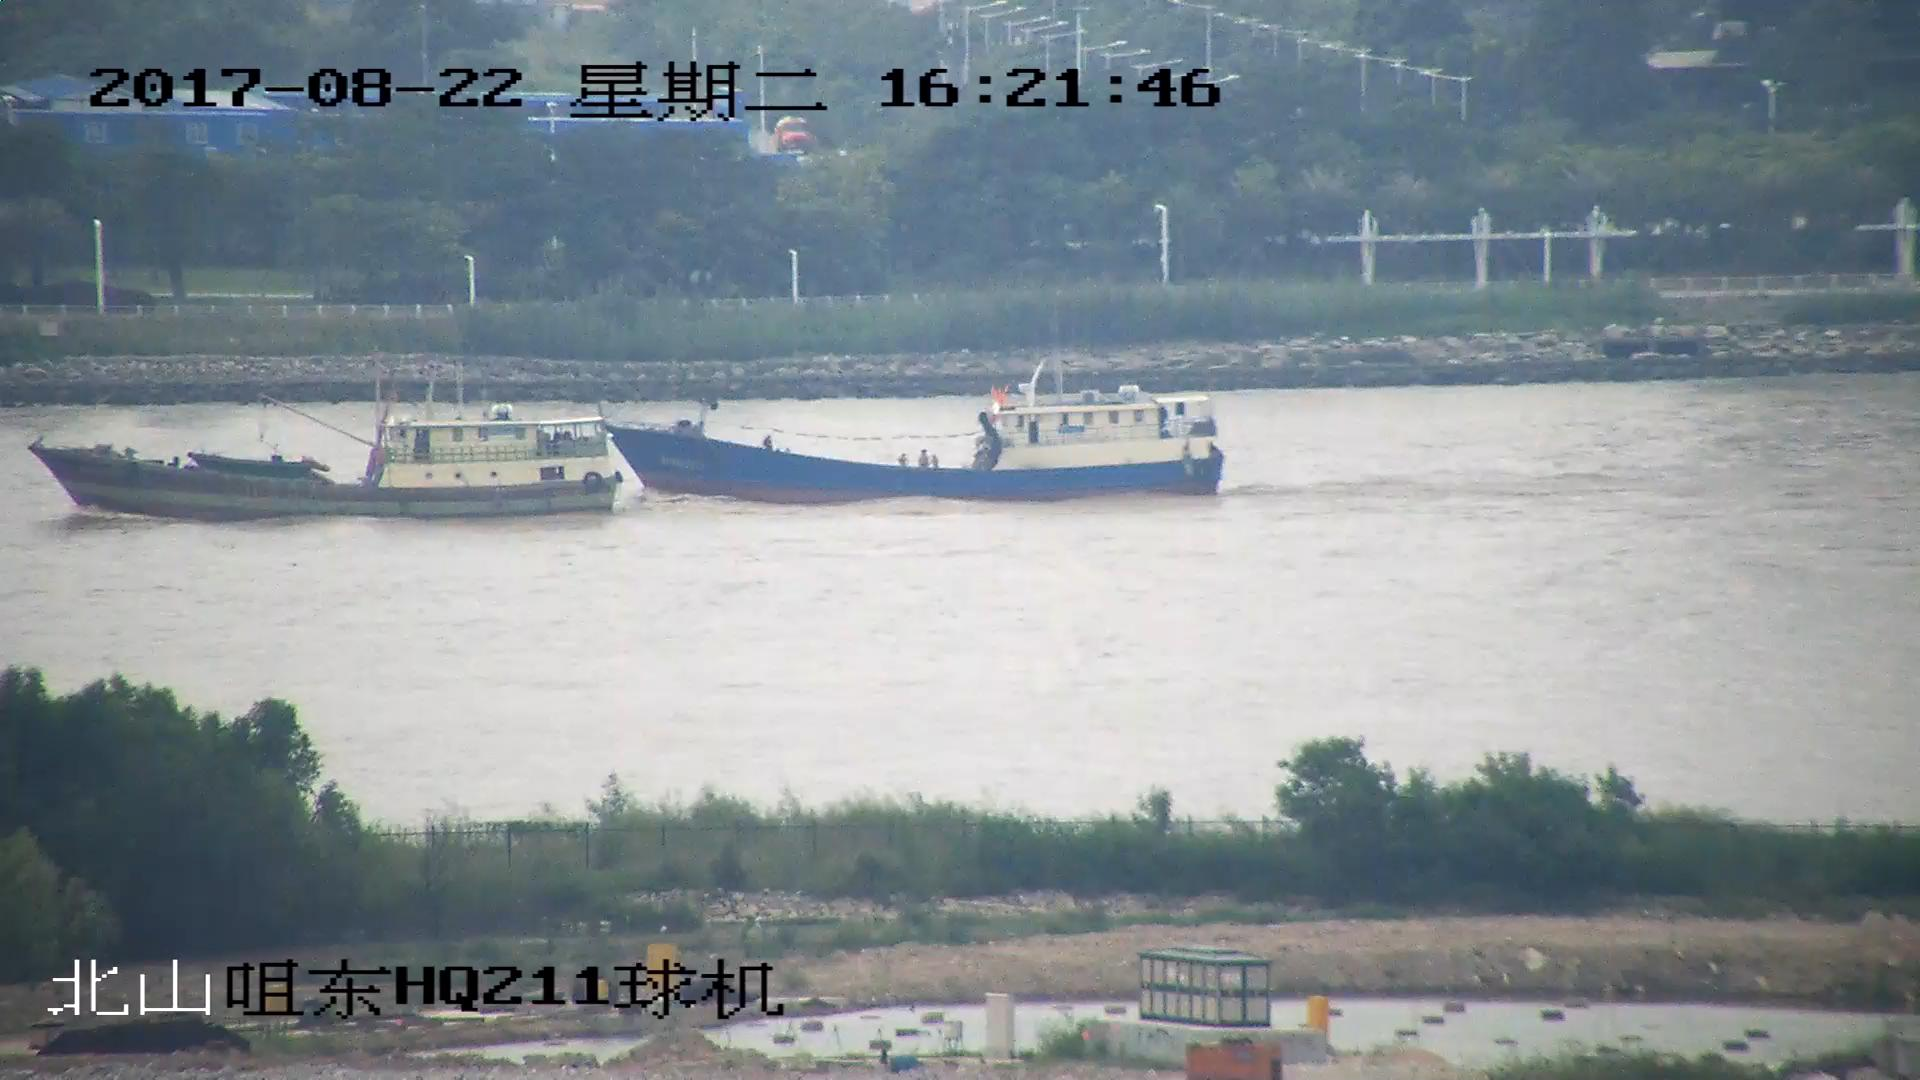fishing boat: (33, 363, 623, 516), (599, 365, 1225, 501)
